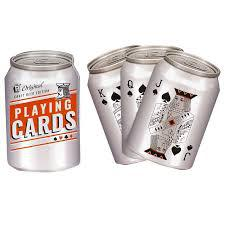beer: (9, 44, 219, 181)
